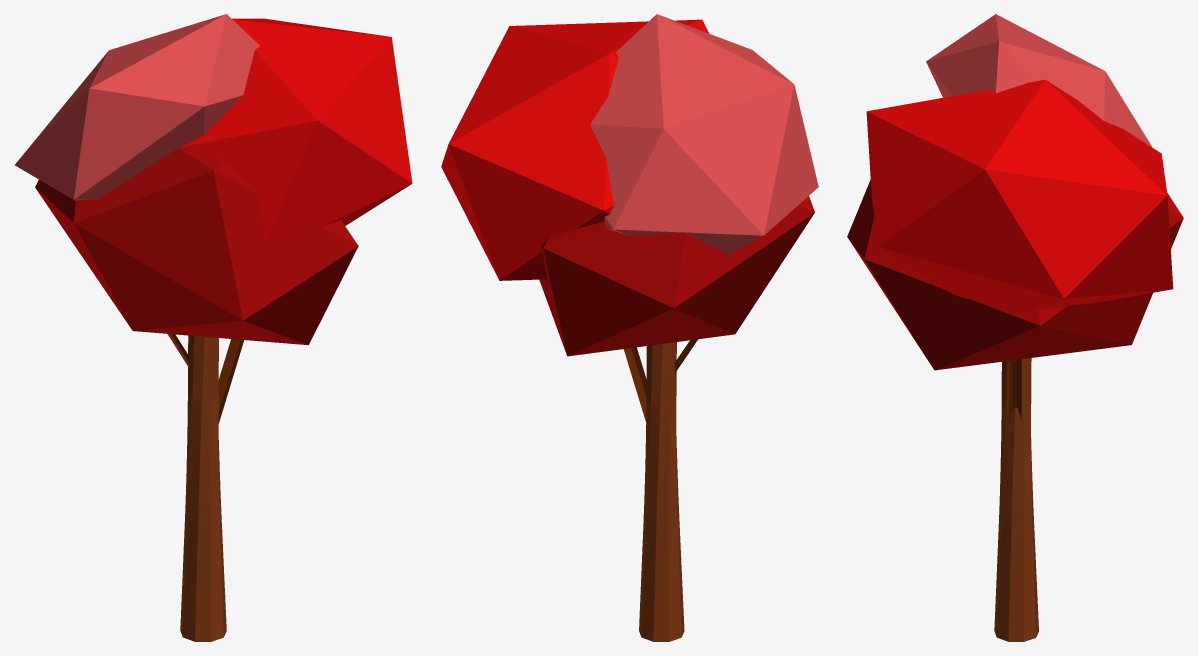
The model's file is cherry tree.glb.
The picture shows the model from 3 angles, left to right: view 1: azimuth 30°, elevation 25°; view 2: azimuth 150°, elevation 25°; view 3: azimuth 270°, elevation 25°; orthographic projection. The views are drawn at different scales.
Parts seen in each view (by area): view 1: cherry tree.001, cherry tree.004, cherry tree.005, cherry tree, cherry tree.002; view 2: cherry tree.005, cherry tree.004, cherry tree.001, cherry tree, cherry tree.002; view 3: cherry tree.004, cherry tree.001, cherry tree.005, cherry tree, cherry tree.002.
Boxes of the visible parts, x1,y1,x2,y2 form: cherry tree.001: (35, 147, 358, 345); cherry tree.004: (180, 18, 412, 242); cherry tree.005: (14, 14, 259, 200); cherry tree: (180, 335, 226, 641); cherry tree.002: (218, 339, 244, 423); cherry tree.005: (590, 14, 818, 254); cherry tree.004: (441, 19, 709, 280); cherry tree.001: (539, 196, 814, 356); cherry tree: (639, 342, 684, 641); cherry tree.002: (623, 347, 646, 422); cherry tree.004: (866, 79, 1173, 313); cherry tree.001: (847, 180, 1183, 370); cherry tree.005: (926, 14, 1152, 147); cherry tree: (994, 358, 1038, 641); cherry tree.002: (1009, 359, 1021, 424).
Size of the model in its own units: 6.14 by 10.51 by 5.36.
Materials: 1 (1 with a texture image).
